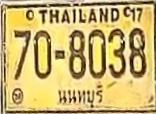0: (33, 29, 52, 78), (88, 28, 106, 78)
3: (108, 28, 126, 78)
7: (13, 29, 31, 78)
8: (128, 27, 146, 77), (68, 29, 85, 78)
NBI: (54, 83, 107, 109)
